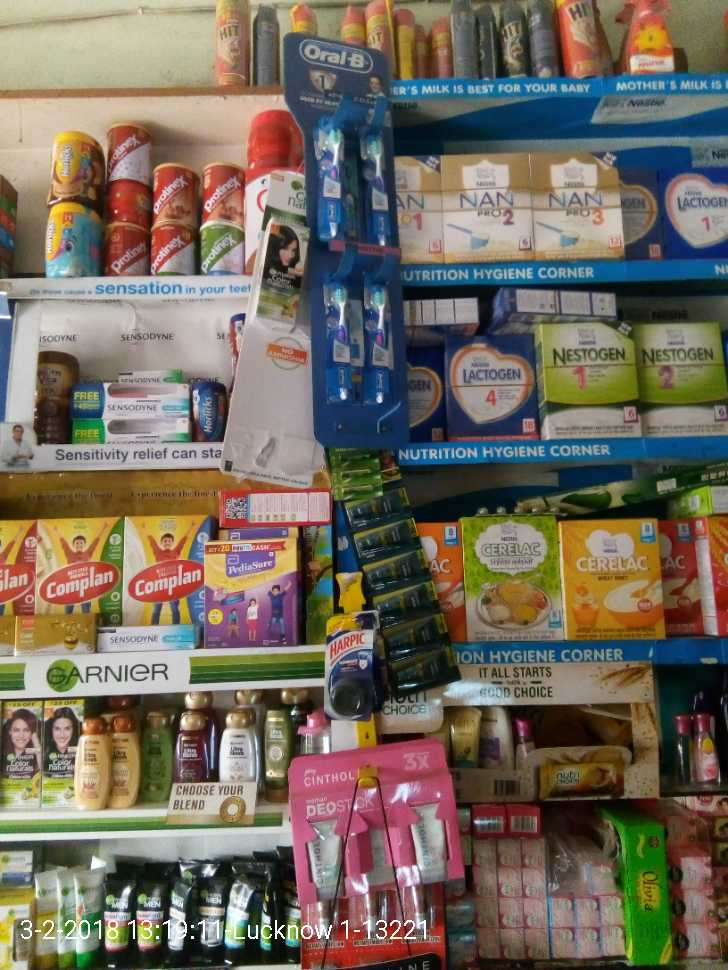oralb: (315, 270, 356, 404), (357, 123, 400, 249), (359, 269, 394, 401), (314, 109, 347, 240)
